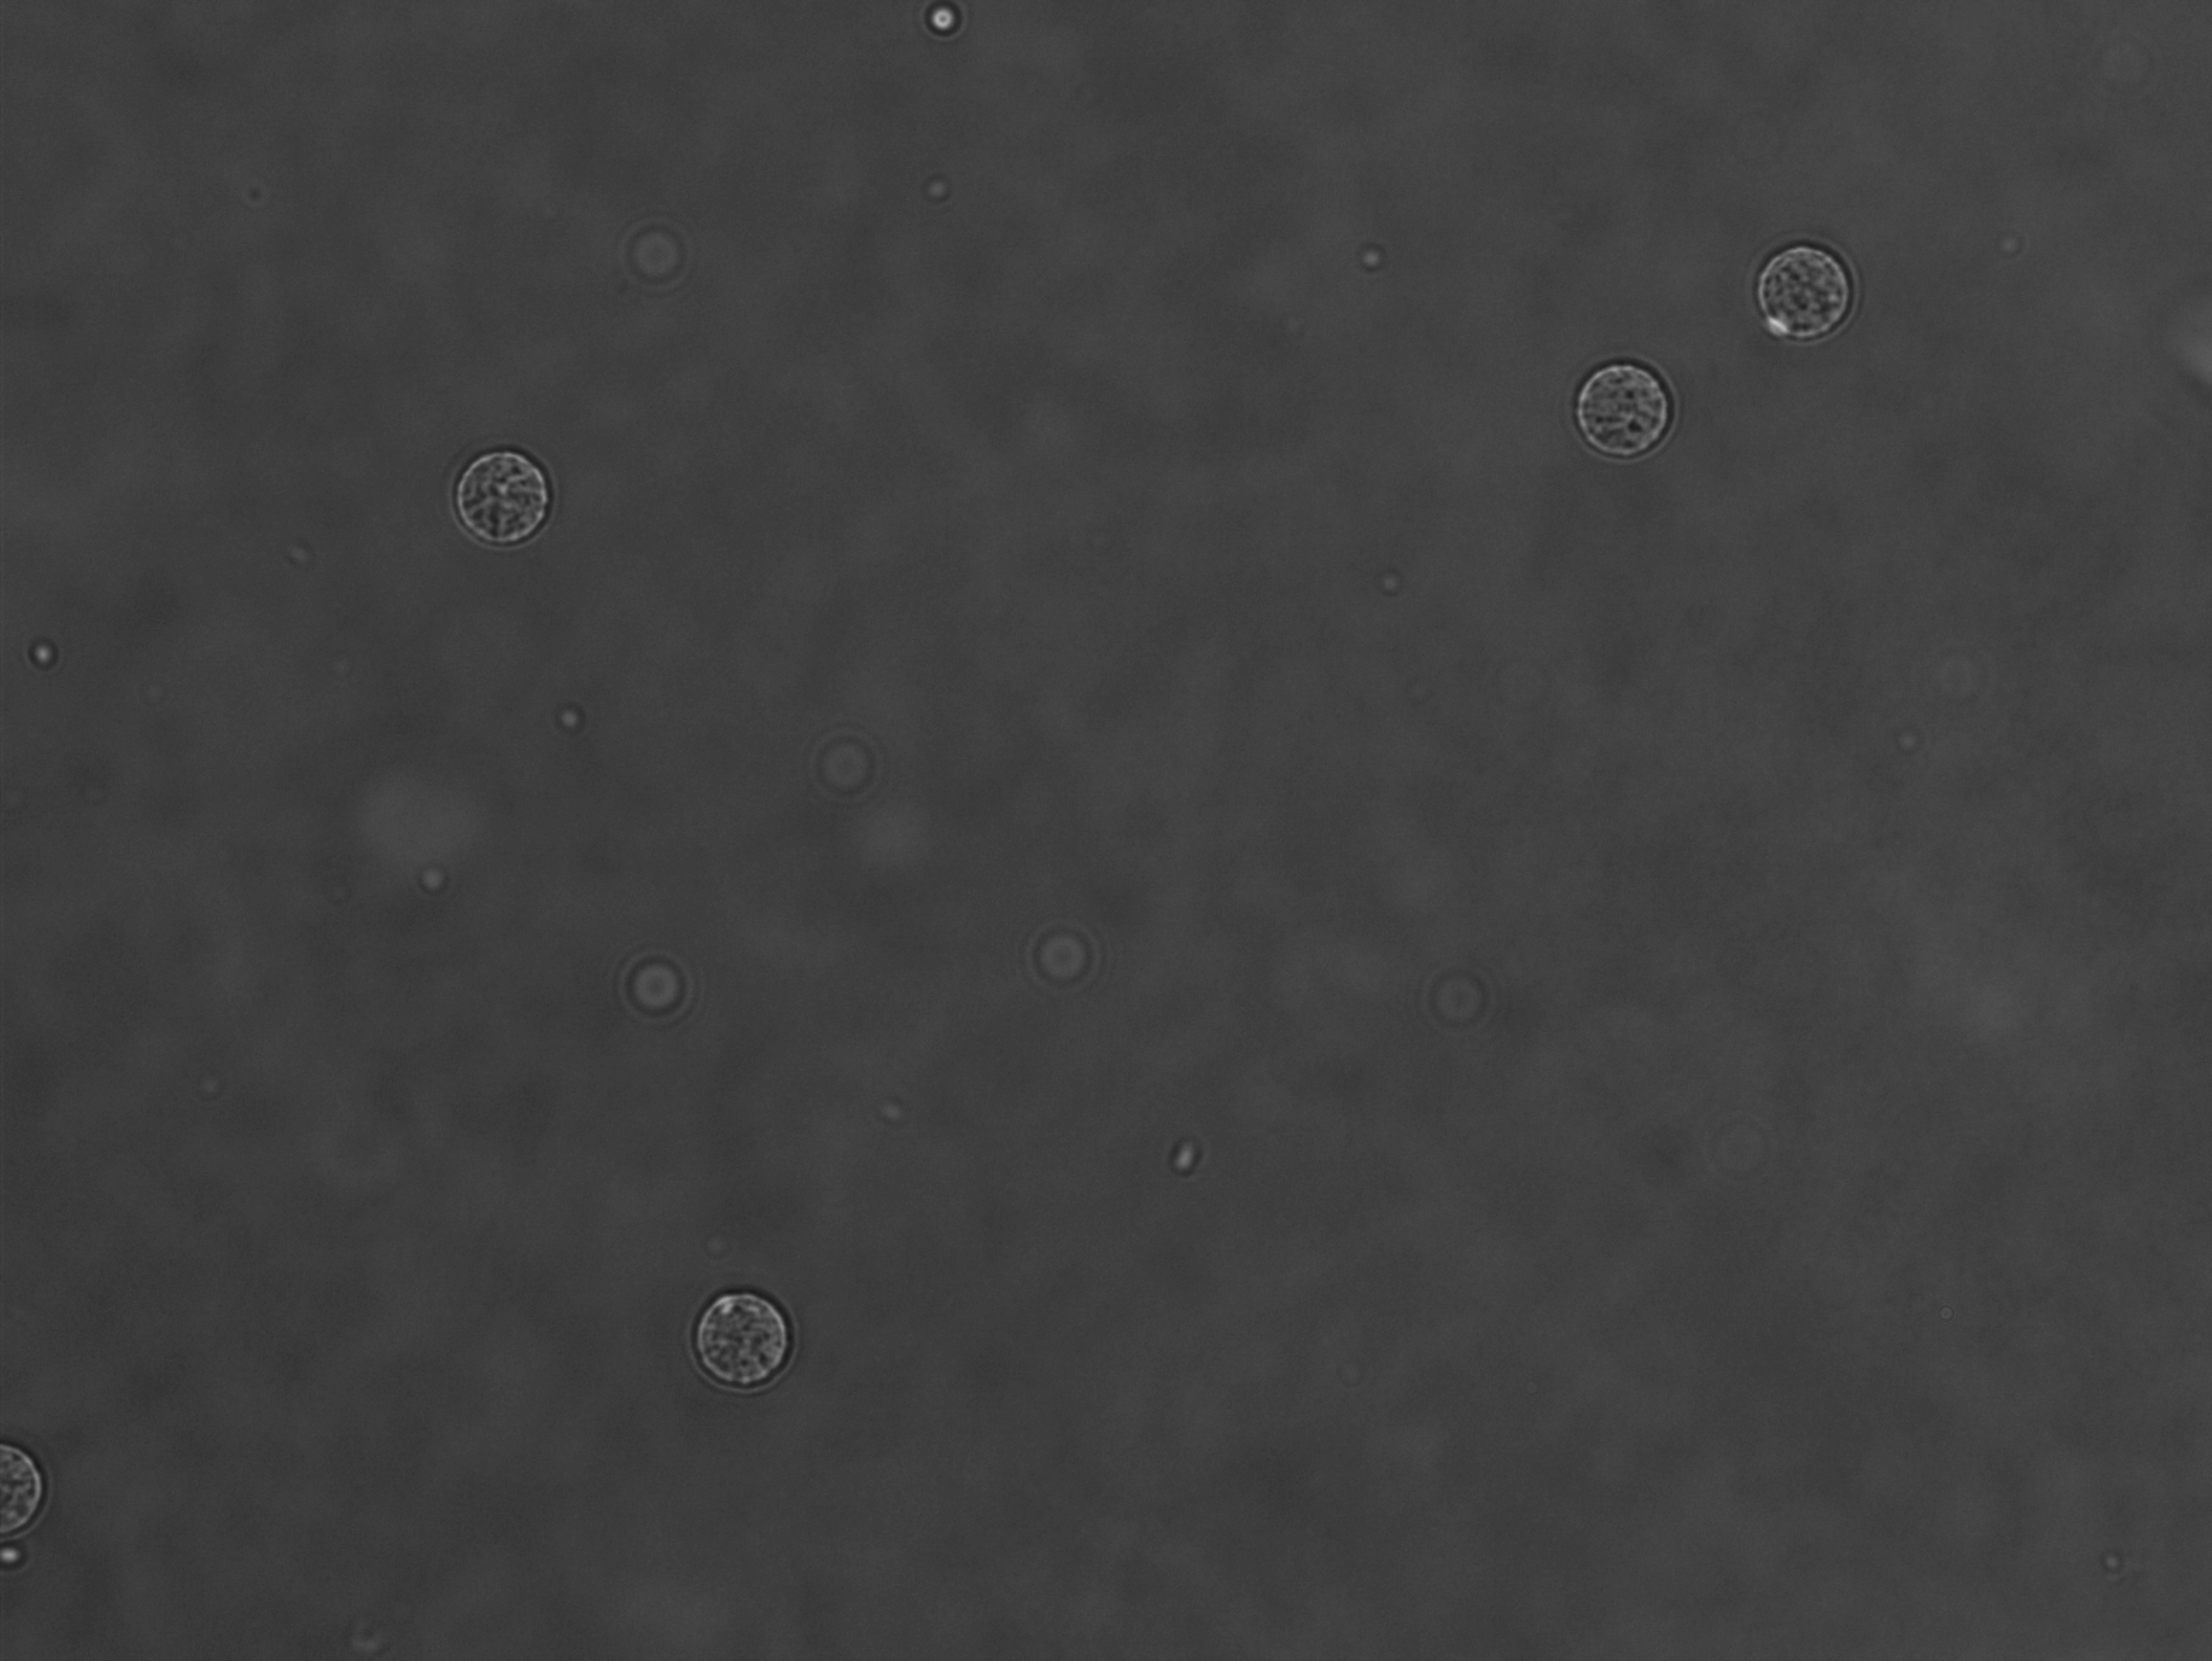depth:0: (663, 1272, 827, 1415), (1547, 338, 1696, 489), (424, 429, 583, 564), (1727, 227, 1874, 366)
